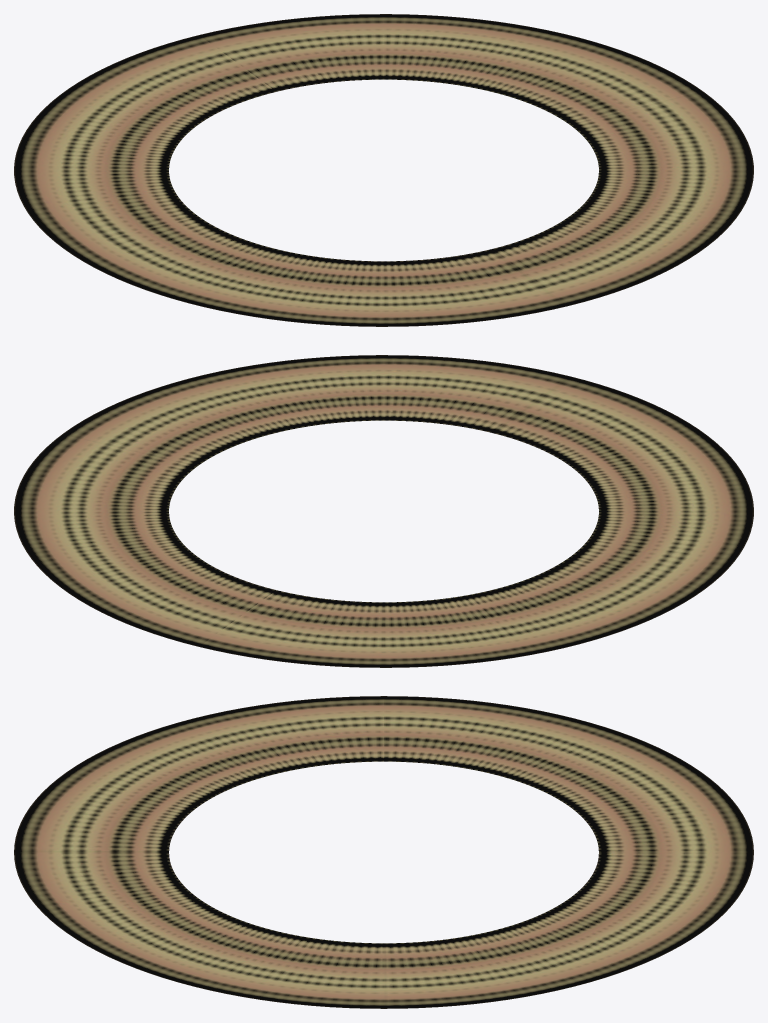
File: ringPlanetRings.glb
The picture shows the model from 3 angles, top to bottom: view 1: azimuth 30°, elevation 25°; view 2: azimuth 150°, elevation 25°; view 3: azimuth 270°, elevation 25°; orthographic projection.
Parts seen in each view (by area): view 1: Rings; view 2: Rings; view 3: Rings.
Part boxes in pixels (bbox=[...]): Rings: bbox=[14, 14, 753, 326]; Rings: bbox=[14, 355, 753, 667]; Rings: bbox=[14, 696, 753, 1008].
Size of the model in its own units: 5.42 by 0 by 5.42.
1 material, 1 textured.
